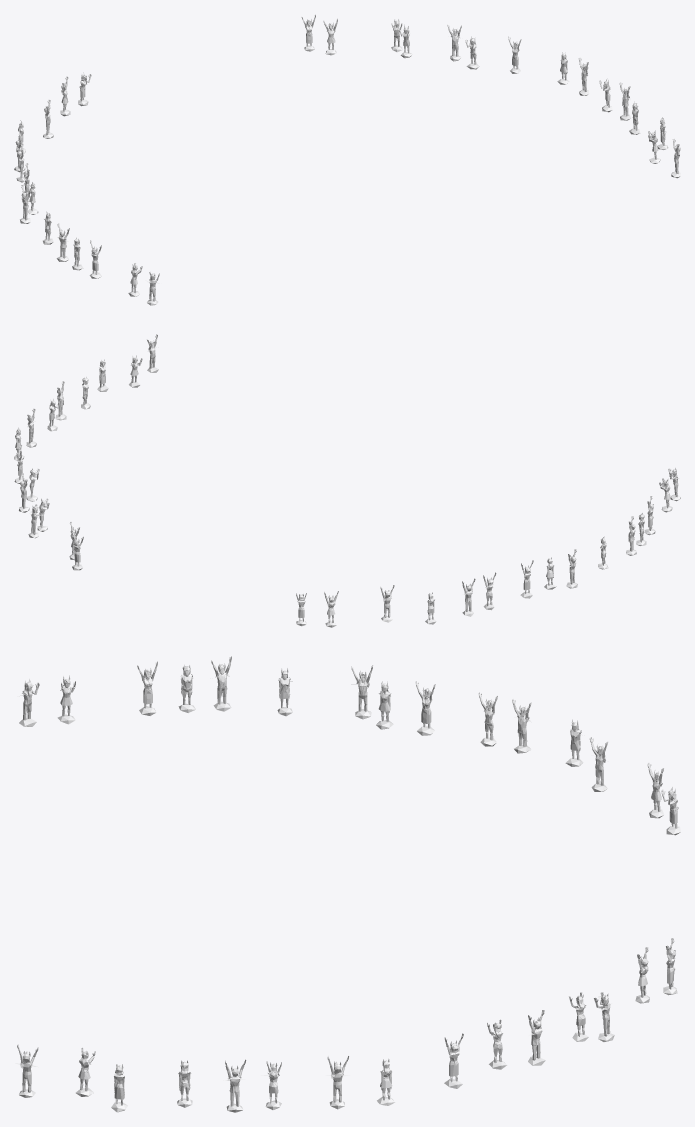
Rendered from Statues_1.obj.
3 views of the same model, one above another, from view 1: azimuth 30°, elevation 25°; view 2: azimuth 150°, elevation 25°; view 3: azimuth 270°, elevation 25° (orthographic). The views are drawn at different scales.
Visible parts, largest first — view 1: Statues_1; view 2: Statues_1; view 3: Statues_1.
Boxes of the visible parts, x1,y1,x2,y2 form: Statues_1: (14, 14, 680, 305); Statues_1: (14, 334, 680, 627); Statues_1: (15, 656, 680, 1112).
Bounding box in the file's own units: 45.72 × 2.72 × 31.54.
Materials: 1 (1 with a texture image).
